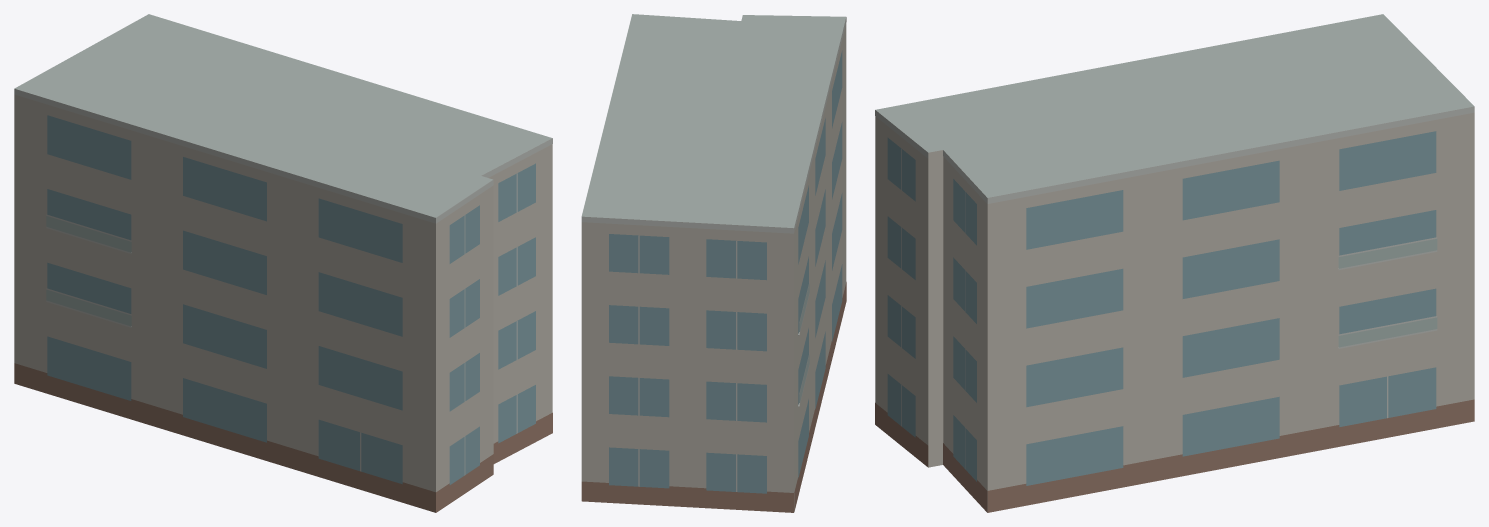
The model's file is survey-upis-32852404.glb.
3 renders of one model, left to right at view 1: azimuth 30°, elevation 25°; view 2: azimuth 150°, elevation 25°; view 3: azimuth 270°, elevation 25°, orthographic. The views are drawn at different scales.
Visible parts, largest first — view 1: survey-upis-32852404.tmp; view 2: survey-upis-32852404.tmp; view 3: survey-upis-32852404.tmp.
Part boxes in pixels (x1=…): survey-upis-32852404.tmp: x1=14, y1=14, x2=552, y2=512; survey-upis-32852404.tmp: x1=581, y1=14, x2=846, y2=512; survey-upis-32852404.tmp: x1=875, y1=14, x2=1474, y2=512.
Bounding box in the file's own units: 15.67 × 12.5 × 21.58.
